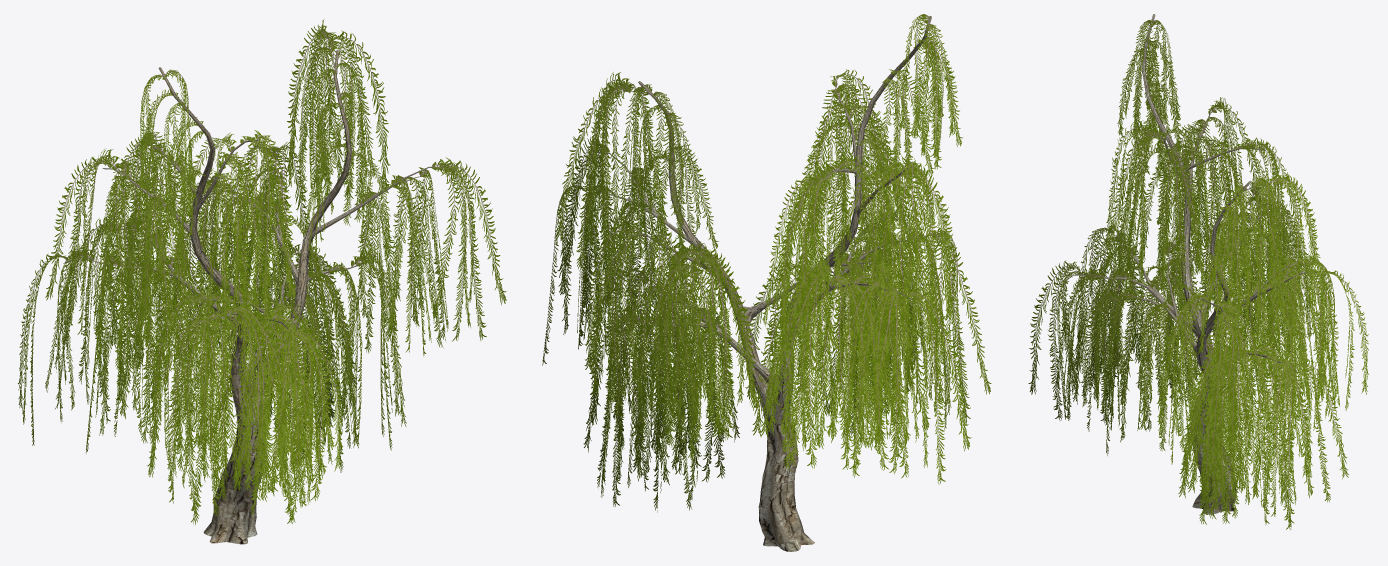
3 renders of one model, left to right at view 1: azimuth 30°, elevation 25°; view 2: azimuth 150°, elevation 25°; view 3: azimuth 270°, elevation 25°, orthographic. The views are drawn at different scales.
Visible parts, largest first — view 1: Tree_1, Tree_0; view 2: Tree_1, Tree_0; view 3: Tree_1, Tree_0.
Part boxes in pixels (x1=…): Tree_1: x1=18, y1=19, x2=506, y2=524; Tree_0: x1=63, y1=42, x2=457, y2=544; Tree_1: x1=542, y1=14, x2=991, y2=512; Tree_0: x1=579, y1=16, x2=931, y2=551; Tree_1: x1=1028, y1=20, x2=1368, y2=529; Tree_0: x1=1067, y1=14, x2=1323, y2=514.
Size of the model in its own units: 7.26 by 8 by 5.66.
Materials: 2 (2 with a texture image).
